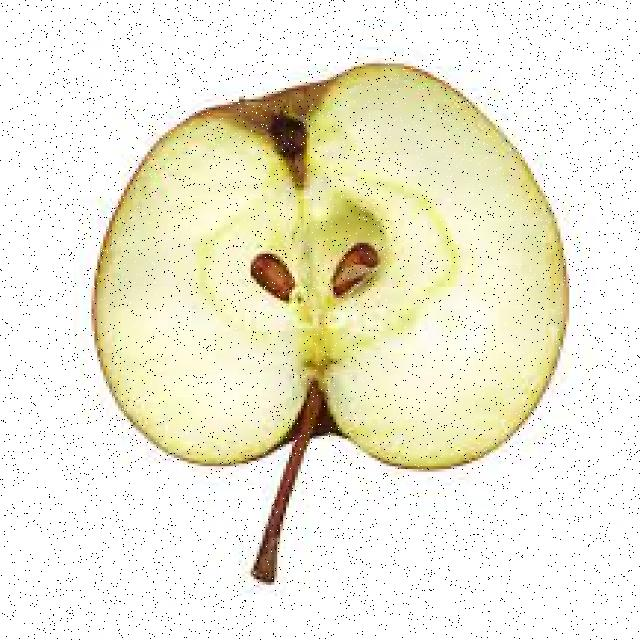Apple: (91, 63, 568, 589)
